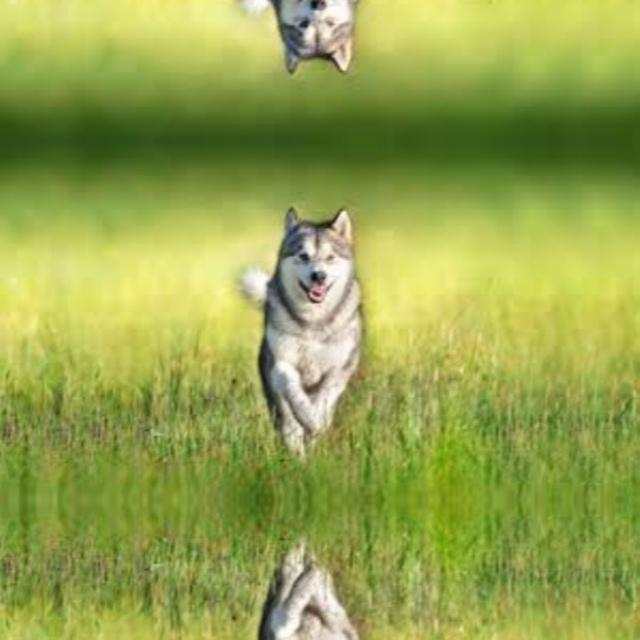dog: (234, 183, 372, 462), (233, 537, 372, 640), (233, 0, 372, 96)
